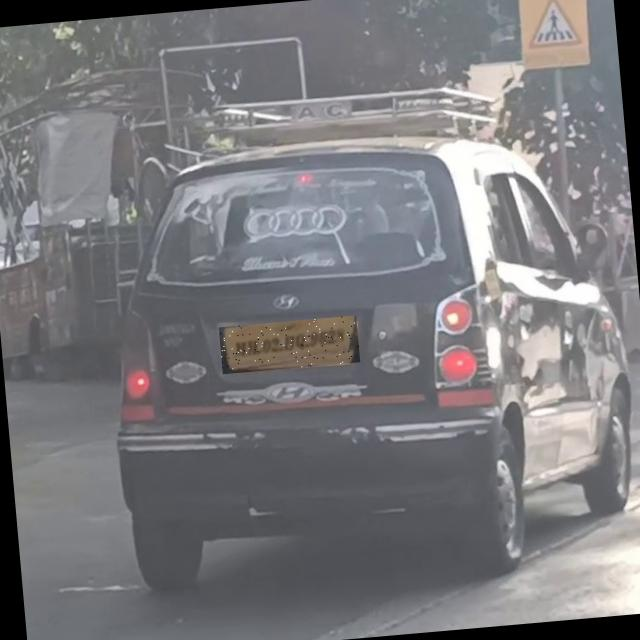Plate: (219, 316, 361, 375)
